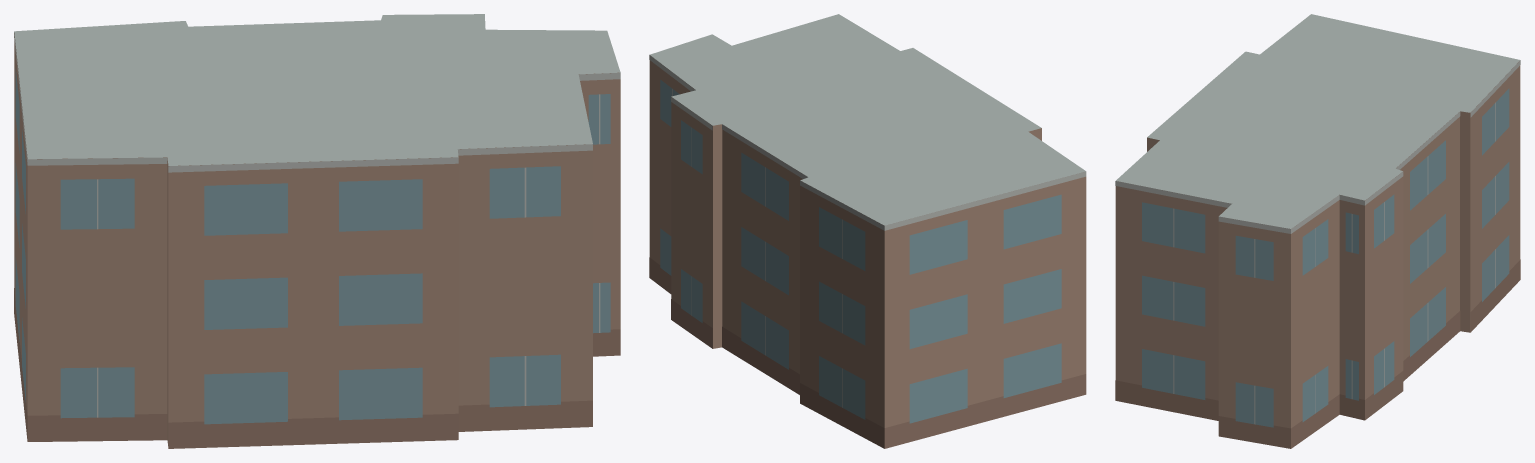
Rendered from survey-upis-33038339.glb.
3 renders of one model, left to right at view 1: azimuth 30°, elevation 25°; view 2: azimuth 150°, elevation 25°; view 3: azimuth 270°, elevation 25°, orthographic. The views are drawn at different scales.
Visible parts, largest first — view 1: survey-upis-33038339.tmp; view 2: survey-upis-33038339.tmp; view 3: survey-upis-33038339.tmp.
Boxes of the visible parts, x1,y1,x2,y2 form: survey-upis-33038339.tmp: (14,14,620,448); survey-upis-33038339.tmp: (649,14,1086,448); survey-upis-33038339.tmp: (1115,14,1520,448).
Size of the model in its own units: 22.23 by 10.6 by 17.7.
